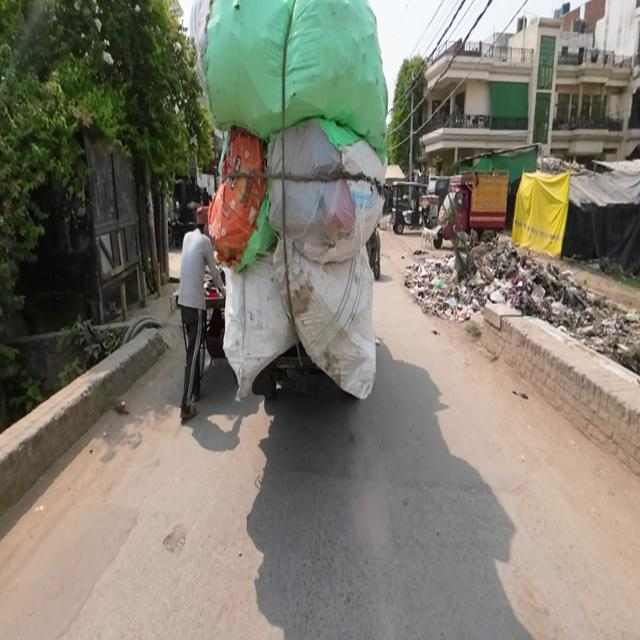Garbage: (415, 240, 636, 316)
